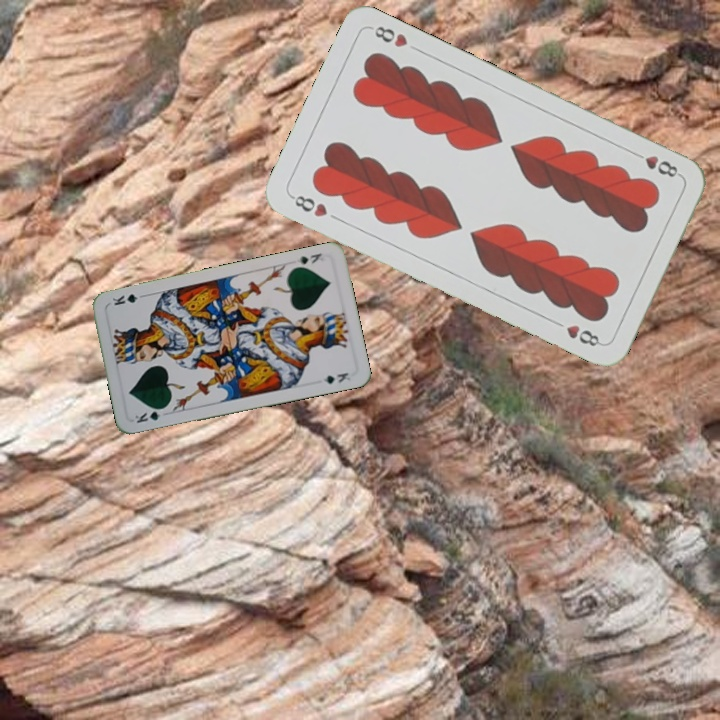GK: (131, 403, 169, 426), (293, 249, 326, 267)
H8: (628, 147, 684, 180), (287, 191, 330, 220)
